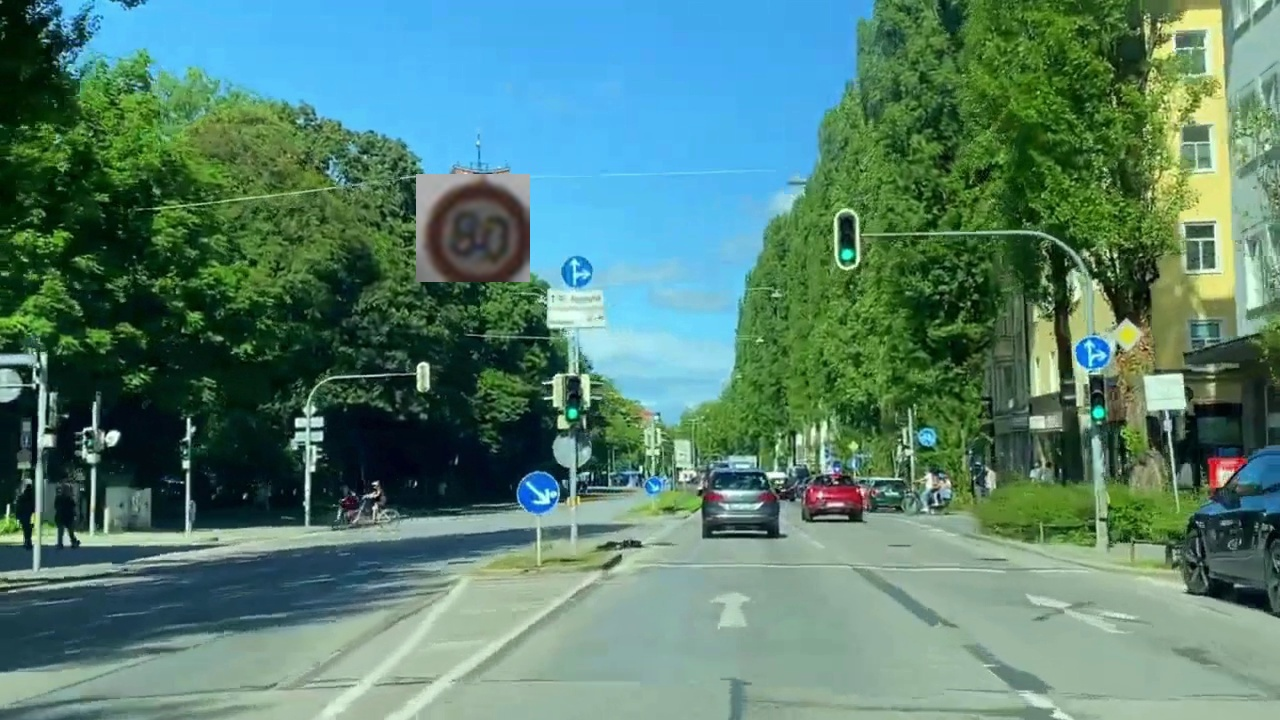Speed 80: (416, 174, 530, 282)
